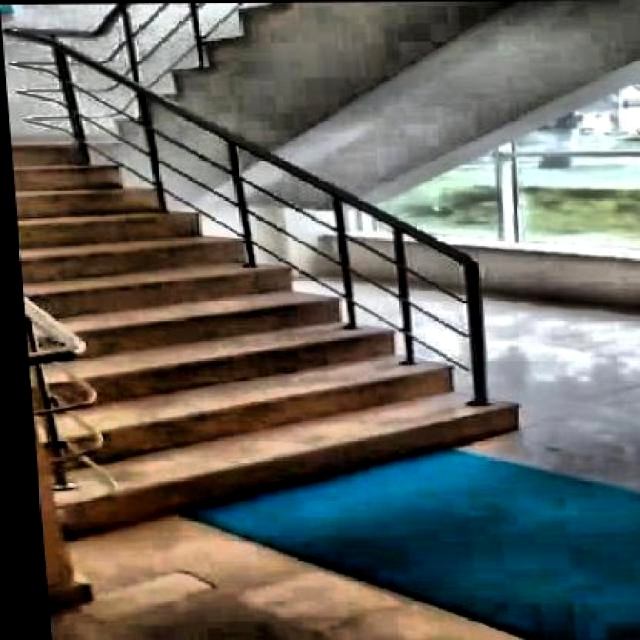stair: (10, 129, 565, 545)
